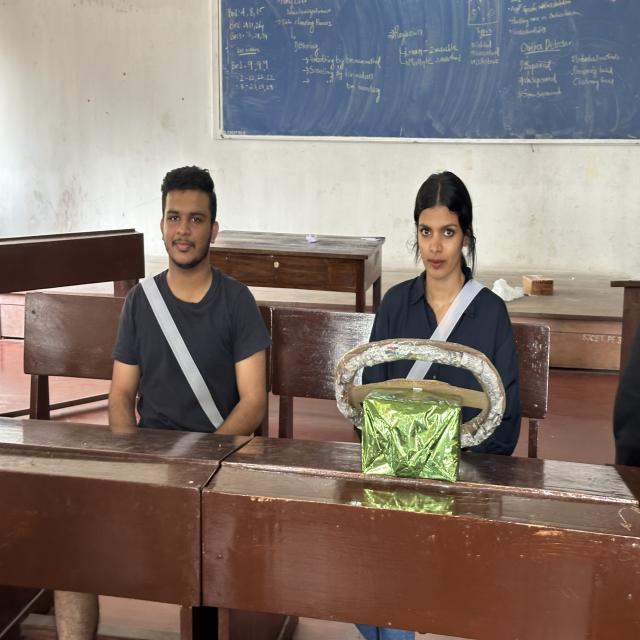seatbelt: (373, 272, 497, 452), (136, 272, 261, 437)
